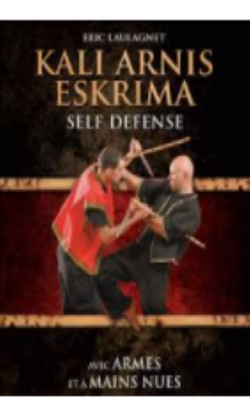baston_e: (136, 197, 201, 250), (131, 135, 185, 162), (131, 144, 153, 172)
baston_v: (197, 238, 207, 252), (128, 193, 139, 205), (183, 133, 194, 143)
